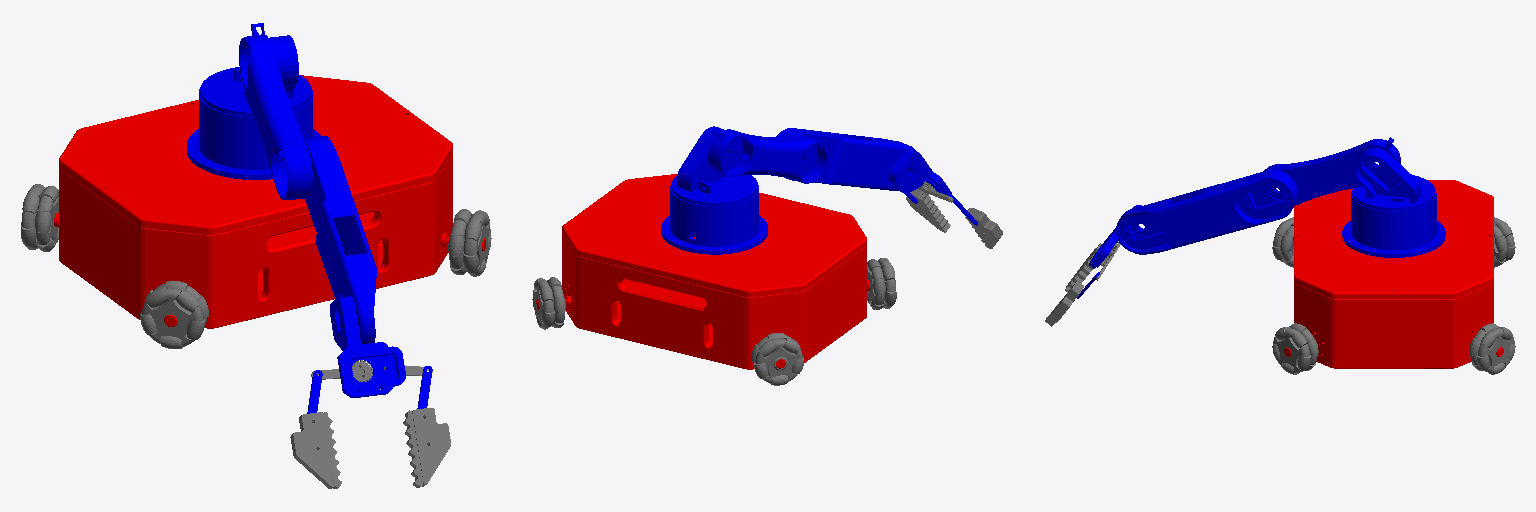
URDF robot description (robotic_arm_omnibase_platform3):
<?xml version="1.0" encoding="utf-8"?>
<!-- Gazebo Compatible URDF -->
<robot name="robotic_arm_omnibase_platform3">

  <!-- ================= LINKS (Unchanged) ================= -->
  <link name="base_link">
    <inertial> <origin xyz="-1.06e-08 5.04e-05 0.0452" rpy="0 0 0"/> <mass value="2.6937"/> <inertia ixx="0.01408" ixy="1.31e-05" ixz="-1.38e-08" iyy="0.02323" iyz="-1.31e-06" izz="0.03512"/> </inertial>
    <visual> <origin xyz="0 0 0" rpy="0 0 0"/> <geometry> <mesh filename="package://robotic_arm_omnibase_platform3/meshes/base_link.STL"/> </geometry> <material name="RedMat"> <color rgba="1 0 0 1"/> </material> </visual>
    <collision> <origin xyz="0 0 0" rpy="0 0 0"/> <geometry> <mesh filename="package://robotic_arm_omnibase_platform3/meshes/base_link.STL"/> </geometry> </collision>
  </link>
  <link name="l_w_1">
    <inertial> <origin xyz="-2.89e-09 -0.0125 -1.18e-09" rpy="0 0 0"/> <mass value="0.0504"/> <inertia ixx="1.07e-05" ixy="5.68e-14" ixz="2.99e-12" iyy="2.03e-05" iyz="-4.83e-14" izz="1.07e-05"/> </inertial>
    <visual> <origin xyz="0 0 0" rpy="0 0 0"/> <geometry> <mesh filename="package://robotic_arm_omnibase_platform3/meshes/l_w_1.STL"/> </geometry> <material name="GreyMat"> <color rgba="0.5 0.5 0.5 1"/> </material> </visual>
    <collision> <origin xyz="0 0 0" rpy="0 0 0"/> <geometry> <mesh filename="package://robotic_arm_omnibase_platform3/meshes/l_w_1.STL"/> </geometry> </collision>
  </link>
  <link name="l_w_2">
    <inertial> <origin xyz="-2.89e-09 -0.0124 1.18e-09" rpy="0 0 0"/> <mass value="0.0504"/> <inertia ixx="1.07e-05" ixy="-5.68e-14" ixz="-2.99e-12" iyy="2.03e-05" iyz="-4.83e-14" izz="1.07e-05"/> </inertial>
    <visual> <origin xyz="0 0 0" rpy="0 0 0"/> <geometry> <mesh filename="package://robotic_arm_omnibase_platform3/meshes/l_w_2.STL"/> </geometry> <material name="GreyMat"/> </visual>
    <collision> <origin xyz="0 0 0" rpy="0 0 0"/> <geometry> <mesh filename="package://robotic_arm_omnibase_platform3/meshes/l_w_2.STL"/> </geometry> </collision>
  </link>
  <link name="r_w_1">
    <inertial> <origin xyz="-2.91e-09 -0.0125 -1.14e-09" rpy="0 0 0"/> <mass value="0.0504"/> <inertia ixx="1.07e-05" ixy="5.59e-14" ixz="3.05e-12" iyy="2.03e-05" iyz="-4.97e-14" izz="1.07e-05"/> </inertial>
    <visual> <origin xyz="0 0 0" rpy="0 0 0"/> <geometry> <mesh filename="package://robotic_arm_omnibase_platform3/meshes/r_w_1.STL"/> </geometry> <material name="GreyMat"/> </visual>
    <collision> <origin xyz="0 0 0" rpy="0 0 0"/> <geometry> <mesh filename="package://robotic_arm_omnibase_platform3/meshes/r_w_1.STL"/> </geometry> </collision>
  </link>
  <link name="r_w_2">
    <inertial> <origin xyz="-2.89e-09 -0.0125 -1.18e-09" rpy="0 0 0"/> <mass value="0.0504"/> <inertia ixx="1.07e-05" ixy="5.68e-14" ixz="2.99e-12" iyy="2.03e-05" iyz="-4.83e-14" izz="1.07e-05"/> </inertial>
    <visual> <origin xyz="0 0 0" rpy="0 0 0"/> <geometry> <mesh filename="package://robotic_arm_omnibase_platform3/meshes/r_w_2.STL"/> </geometry> <material name="GreyMat"/> </visual>
    <collision> <origin xyz="0 0 0" rpy="0 0 0"/> <geometry> <mesh filename="package://robotic_arm_omnibase_platform3/meshes/r_w_2.STL"/> </geometry> </collision>
  </link>
  <link name="b_l_r_a"><inertial><origin xyz="4.44e-07 -0.0009 -0.008" rpy="0 0 0"/><mass value="0.116"/><inertia ixx="0.00016" ixy="4.15e-10" ixz="9.79e-10" iyy="0.00015" iyz="-4.25e-06" izz="0.00025"/></inertial><visual><origin xyz="0 0 0" rpy="0 0 0"/><geometry><mesh filename="package://robotic_arm_omnibase_platform3/meshes/b_l_r_a.STL"/></geometry><material name="BlueMat"><color rgba="0 0 1 1"/></material></visual><collision><origin xyz="0 0 0" rpy="0 0 0"/><geometry><mesh filename="package://robotic_arm_omnibase_platform3/meshes/b_l_r_a.STL"/></geometry></collision></link>
  <link name="b_c"><inertial><origin xyz="-0.0054 0.0034 0.0125" rpy="0 0 0"/><mass value="0.0604"/><inertia ixx="4.99e-05" ixy="-1.86e-06" ixz="3.53e-06" iyy="3.86e-05" iyz="-6.94e-06" izz="5.40e-05"/></inertial><visual><origin xyz="0 0 0" rpy="0 0 0"/><geometry><mesh filename="package://robotic_arm_omnibase_platform3/meshes/b_c.STL"/></geometry><material name="BlueMat"/></visual><collision><origin xyz="0 0 0" rpy="0 0 0"/><geometry><mesh filename="package://robotic_arm_omnibase_platform3/meshes/b_c.STL"/></geometry></collision></link>
  <link name="l_1"><inertial><origin xyz="-5.65e-05 -0.0061 0.0648" rpy="0 0 0"/><mass value="0.1287"/><inertia ixx="0.00025" ixy="3.34e-08" ixz="-6.48e-07" iyy="0.00027" iyz="9.22e-07" izz="2.88e-05"/></inertial><visual><origin xyz="0 0 0" rpy="0 0 0"/><geometry><mesh filename="package://robotic_arm_omnibase_platform3/meshes/l_1.STL"/></geometry><material name="BlueMat"/></visual><collision><origin xyz="0 0 0" rpy="0 0 0"/><geometry><mesh filename="package://robotic_arm_omnibase_platform3/meshes/l_1.STL"/></geometry></collision></link>
  <link name="l_2"><inertial><origin xyz="0.0126 0.0006 0.0824" rpy="0 0 0"/><mass value="0.177"/><inertia ixx="0.00033" ixy="-1.75e-08" ixz="-2.35e-06" iyy="0.00029" iyz="-1.62e-06" izz="6.08e-05"/></inertial><visual><origin xyz="0 0 0" rpy="0 0 0"/><geometry><mesh filename="package://robotic_arm_omnibase_platform3/meshes/l_2.STL"/></geometry><material name="BlueMat"/></visual><collision><origin xyz="0 0 0" rpy="0 0 0"/><geometry><mesh filename="package://robotic_arm_omnibase_platform3/meshes/l_2.STL"/></geometry></collision></link>
  <link name="l_3"><inertial><origin xyz="-0.0028 -0.0072 0.0213" rpy="0 0 0"/><mass value="0.0338"/><inertia ixx="2.83e-05" ixy="-1.40e-06" ixz="4.00e-06" iyy="2.75e-05" iyz="6.57e-06" izz="1.06e-05"/></inertial><visual><origin xyz="0 0 0" rpy="0 0 0"/><geometry><mesh filename="package://robotic_arm_omnibase_platform3/meshes/l_3.STL"/></geometry><material name="BlueMat"/></visual><collision><origin xyz="0 0 0" rpy="0 0 0"/><geometry><mesh filename="package://robotic_arm_omnibase_platform3/meshes/l_3.STL"/></geometry></collision></link>
  <link name="g_1"><inertial><origin xyz="0.0048 0.0004 -0.008" rpy="0 0 0"/><mass value="0.0023"/><inertia ixx="5.01e-07" ixy="-1.96e-09" ixz="3.52e-08" iyy="4.70e-07" iyz="2.32e-08" izz="4.96e-08"/></inertial><visual><origin xyz="0 0 0" rpy="0 0 0"/><geometry><mesh filename="package://robotic_arm_omnibase_platform3/meshes/g_1.STL"/></geometry><material name="GreyMat"/></visual><collision><origin xyz="0 0 0" rpy="0 0 0"/><geometry><mesh filename="package://robotic_arm_omnibase_platform3/meshes/g_1.STL"/></geometry></collision></link>
  <link name="l_4_1"><inertial><origin xyz="-0.014 -0.016 -0.005" rpy="0 0 0"/><mass value="0.0012"/><inertia ixx="1.82e-07" ixy="-1.12e-07" ixz="-3.37e-08" iyy="1.00e-07" iyz="-4.81e-08" izz="2.40e-07"/></inertial><visual><origin xyz="0 0 0" rpy="0 0 0"/><geometry><mesh filename="package://robotic_arm_omnibase_platform3/meshes/l_4_1.STL"/></geometry><material name="BlueMat"/></visual><collision><origin xyz="0 0 0" rpy="0 0 0"/><geometry><mesh filename="package://robotic_arm_omnibase_platform3/meshes/l_4_1.STL"/></geometry></collision></link>
  <link name="gr_1"><inertial><origin xyz="-0.006 -0.007 -0.021" rpy="0 0 0"/><mass value="0.0193"/><inertia ixx="6.33e-06" ixy="-8.47e-22" ixz="-1.89e-21" iyy="4.96e-06" iyz="-1.47e-06" izz="1.74e-06"/></inertial><visual><origin xyz="0 0 0" rpy="0 0 0"/><geometry><mesh filename="package://robotic_arm_omnibase_platform3/meshes/gr_1.STL"/></geometry><material name="GreyMat"/></visual><collision><origin xyz="0 0 0" rpy="0 0 0"/><geometry><mesh filename="package://robotic_arm_omnibase_platform3/meshes/gr_1.STL"/></geometry></collision></link>
  <link name="g_2"><inertial><origin xyz="-0.0005 -0.0012 0.0085" rpy="0 0 0"/><mass value="0.0024"/><inertia ixx="5.00e-07" ixy="-1.69e-08" ixz="7.98e-09" iyy="4.76e-07" iyz="7.45e-08" izz="6.05e-08"/></inertial><visual><origin xyz="0 0 0" rpy="0 0 0"/><geometry><mesh filename="package://robotic_arm_omnibase_platform3/meshes/g_2.STL"/></geometry><material name="GreyMat"/></visual><collision><origin xyz="0 0 0" rpy="0 0 0"/><geometry><mesh filename="package://robotic_arm_omnibase_platform3/meshes/g_2.STL"/></geometry></collision></link>
  <link name="l_4_2"><inertial><origin xyz="-0.015 -0.016 -0.003" rpy="0 0 0"/><mass value="0.0012"/><inertia ixx="1.78e-07" ixy="-1.16e-07" ixz="-2.07e-08" iyy="9.53e-08" iyz="-2.93e-08" izz="2.49e-07"/></inertial><visual><origin xyz="0 0 0" rpy="0 0 0"/><geometry><mesh filename="package://robotic_arm_omnibase_platform3/meshes/l_4_2.STL"/></geometry><material name="BlueMat"/></visual><collision><origin xyz="0 0 0" rpy="0 0 0"/><geometry><mesh filename="package://robotic_arm_omnibase_platform3/meshes/l_4_2.STL"/></geometry></collision></link>
  <link name="gr_2"><inertial><origin xyz="-0.006 -0.006 -0.021" rpy="0 0 0"/><mass value="0.0193"/><inertia ixx="6.33e-06" ixy="7.41e-22" ixz="1.65e-21" iyy="5.30e-06" iyz="-9.85e-07" izz="1.40e-06"/></inertial><visual><origin xyz="0 0 0" rpy="0 0 0"/><geometry><mesh filename="package://robotic_arm_omnibase_platform3/meshes/gr_2.STL"/></geometry><material name="GreyMat"/></visual><collision><origin xyz="0 0 0" rpy="0 0 0"/><geometry><mesh filename="package://robotic_arm_omnibase_platform3/meshes/gr_2.STL"/></geometry></collision></link>

  <!-- ================= JOINTS (Mimic Removed) ================= -->
  <joint name="left_wheel_1" type="continuous"> <origin xyz="0.15707 0.12401 0.021466" rpy="0 0 -0.7854"/> <parent link="base_link"/> <child link="l_w_1"/> <axis xyz="0 1 0"/> <limit effort="0.15" velocity="62.8"/> </joint>
  <joint name="left_wheel_2" type="continuous"> <origin xyz="-0.15707 0.12401 0.021466" rpy="0 0 0.7854"/> <parent link="base_link"/> <child link="l_w_2"/> <axis xyz="0 1 0"/> <limit effort="0.15" velocity="62.8"/> </joint>
  <joint name="right_wheel_1" type="continuous"> <origin xyz="0.15707 -0.12401 0.021466" rpy="0 0 -2.3562"/> <parent link="base_link"/> <child link="r_w_1"/> <axis xyz="0 1 0"/> <limit effort="0.15" velocity="62.8"/> </joint>
  <joint name="right_wheel_2" type="continuous"> <origin xyz="-0.15707 -0.12401 0.021466" rpy="0 0 2.3562"/> <parent link="base_link"/> <child link="r_w_2"/> <axis xyz="0 1 0"/> <limit effort="0.15" velocity="62.8"/> </joint>
  <joint name="base_link_robotic_arm" type="fixed"> <origin xyz="0 -0.00025 0.1280" rpy="0 0 3.1415"/> <parent link="base_link"/> <child link="b_l_r_a"/> <axis xyz="0 0 0"/> </joint>
  <joint name="base_cap" type="revolute"> <origin xyz="0 -0.00025 0.0269" rpy="0 0 0"/> <parent link="b_l_r_a"/> <child link="b_c"/> <axis xyz="0 0 1"/> <limit lower="0" upper="6.28" effort="1.96" velocity="7"/> </joint>
  <joint name="link_1" type="revolute"> <origin xyz="0.0039 0.0196 0.0353" rpy="-3.1416 1.1933 -1.8204"/> <parent link="b_c"/> <child link="l_1"/> <axis xyz="0 1 0"/> <limit lower="-3.14" upper="0" effort="1.96" velocity="7"/> </joint>
  <joint name="link_2" type="revolute"> <origin xyz="0 0 0.129" rpy="0.0252 0 1.5708"/> <parent link="l_1"/> <child link="l_2"/> <axis xyz="1 0 0"/> <limit lower="-0.5" upper="2.45" effort="1.96" velocity="7"/> </joint>
  <joint name="link_3" type="revolute"> <origin xyz="-0.0055 0.0013 0.179" rpy="-0.5582 0 3.1416"/> <parent link="l_2"/> <child link="l_3"/> <axis xyz="-1 0 0"/> <limit lower="-1.5" upper="1" effort="1.96" velocity="7"/> </joint>
  <joint name="driver_gear" type="revolute"> <origin xyz="-0.0038 -0.013 0.049" rpy="-1.5708 0 1.5708"/> <parent link="l_3"/> <child link="g_1"/> <axis xyz="1 0 0"/> <limit lower="-0.78" upper="0.3" effort="1.96" velocity="7"/> </joint>
  <joint name="link_4_1" type="fixed"> <origin xyz="0.0064 0.0022 -0.039" rpy="0.0457 -0.031 0.6097"/> <parent link="g_1"/> <child link="l_4_1"/> <axis xyz="0 0 0"/> </joint>
  <joint name="gripper_1" type="revolute"> <origin xyz="-0.027 -0.034 -0.011" rpy="-1.3235 0 -0.6104"/> <parent link="l_4_1"/> <child link="gr_1"/> <axis xyz="1 0 0"/> <limit lower="0" upper="1.5" effort="1.96" velocity="7"/> </joint>
  <!-- Removed mimic tag from driven_gear -->
  <joint name="driven_gear" type="revolute"> <origin xyz="-0.024 -0.0085 0.049" rpy="-1.5708 0.6097 1.5708"/> <parent link="l_3"/> <child link="g_2"/> <axis xyz="0.819 -0.572 0"/> <limit lower="-0.78" upper="0.3" effort="1.96" velocity="7"/> </joint>
  <joint name="link_4_2" type="fixed"> <origin xyz="-0.001 -0.006 0.039" rpy="0.127 -0.089 0"/> <parent link="g_2"/> <child link="l_4_2"/> <axis xyz="0 0 0"/> </joint>
  <joint name="gripper_2" type="revolute"> <origin xyz="-0.028 -0.034 -0.006" rpy="-1.423 0 -0.615"/> <parent link="l_4_2"/> <child link="gr_2"/> <axis xyz="1 0 0"/> <limit lower="-1.5" upper="0" effort="1.96" velocity="7"/> </joint>

  <!-- ================= TRANSMISSIONS (Unchanged Wheel + Added Arm) ================= -->
  <transmission name="tran1"> <type>transmission_interface/SimpleTransmission</type> <joint name="left_wheel_1"> <hardwareInterface>hardware_interface/VelocityJointInterface</hardwareInterface> </joint> <actuator name="motor1"> <hardwareInterface>hardware_interface/VelocityJointInterface</hardwareInterface> <mechanicalReduction>1</mechanicalReduction> </actuator> </transmission>
  <transmission name="tran2"> <type>transmission_interface/SimpleTransmission</type> <joint name="left_wheel_2"> <hardwareInterface>hardware_interface/VelocityJointInterface</hardwareInterface> </joint> <actuator name="motor2"> <hardwareInterface>hardware_interface/VelocityJointInterface</hardwareInterface> <mechanicalReduction>1</mechanicalReduction> </actuator> </transmission>
  <transmission name="tran3"> <type>transmission_interface/SimpleTransmission</type> <joint name="right_wheel_1"> <hardwareInterface>hardware_interface/VelocityJointInterface</hardwareInterface> </joint> <actuator name="motor3"> <hardwareInterface>hardware_interface/VelocityJointInterface</hardwareInterface> <mechanicalReduction>1</mechanicalReduction> </actuator> </transmission>
  <transmission name="tran4"> <type>transmission_interface/SimpleTransmission</type> <joint name="right_wheel_2"> <hardwareInterface>hardware_interface/VelocityJointInterface</hardwareInterface> </joint> <actuator name="motor4"> <hardwareInterface>hardware_interface/VelocityJointInterface</hardwareInterface> <mechanicalReduction>1</mechanicalReduction> </actuator> </transmission>
  <transmission name="tran_base_cap"> <type>transmission_interface/SimpleTransmission</type> <joint name="base_cap"> <hardwareInterface>hardware_interface/PositionJointInterface</hardwareInterface> </joint> <actuator name="motor_base_cap"> <hardwareInterface>hardware_interface/PositionJointInterface</hardwareInterface> <mechanicalReduction>1</mechanicalReduction> </actuator> </transmission>
  <transmission name="tran_link_1"> <type>transmission_interface/SimpleTransmission</type> <joint name="link_1"> <hardwareInterface>hardware_interface/PositionJointInterface</hardwareInterface> </joint> <actuator name="motor_link_1"> <hardwareInterface>hardware_interface/PositionJointInterface</hardwareInterface> <mechanicalReduction>1</mechanicalReduction> </actuator> </transmission>
  <transmission name="tran_link_2"> <type>transmission_interface/SimpleTransmission</type> <joint name="link_2"> <hardwareInterface>hardware_interface/PositionJointInterface</hardwareInterface> </joint> <actuator name="motor_link_2"> <hardwareInterface>hardware_interface/PositionJointInterface</hardwareInterface> <mechanicalReduction>1</mechanicalReduction> </actuator> </transmission>
  <transmission name="tran_link_3"> <type>transmission_interface/SimpleTransmission</type> <joint name="link_3"> <hardwareInterface>hardware_interface/PositionJointInterface</hardwareInterface> </joint> <actuator name="motor_link_3"> <hardwareInterface>hardware_interface/PositionJointInterface</hardwareInterface> <mechanicalReduction>1</mechanicalReduction> </actuator> </transmission>
  <transmission name="tran_driver_gear"> <type>transmission_interface/SimpleTransmission</type> <joint name="driver_gear"> <hardwareInterface>hardware_interface/PositionJointInterface</hardwareInterface> </joint> <actuator name="motor_driver_gear"> <hardwareInterface>hardware_interface/PositionJointInterface</hardwareInterface> <mechanicalReduction>1</mechanicalReduction> </actuator> </transmission>
  <transmission name="tran_gripper_1"> <type>transmission_interface/SimpleTransmission</type> <joint name="gripper_1"> <hardwareInterface>hardware_interface/PositionJointInterface</hardwareInterface> </joint> <actuator name="motor_gripper_1"> <hardwareInterface>hardware_interface/PositionJointInterface</hardwareInterface> <mechanicalReduction>1</mechanicalReduction> </actuator> </transmission>
  <transmission name="tran_gripper_2"> <type>transmission_interface/SimpleTransmission</type> <joint name="gripper_2"> <hardwareInterface>hardware_interface/PositionJointInterface</hardwareInterface> </joint> <actuator name="motor_gripper_2"> <hardwareInterface>hardware_interface/PositionJointInterface</hardwareInterface> <mechanicalReduction>1</mechanicalReduction> </actuator> </transmission>
  
  <!-- ================= GAZEBO PLUGINS (Unchanged + Added ros_control) ================= -->
  <gazebo>
    <plugin name="gazebo_ros_planar_move" filename="libgazebo_ros_planar_move.so">
      <commandTopic>cmd_vel</commandTopic>
      <odometryTopic>odom</odometryTopic>
      <odometryFrame>odom</odometryFrame>
      <odometryRate>20.0</odometryRate>
      <robotBaseFrame>base_link</robotBaseFrame>
      <publishTF>true</publishTF>
      <enable-xy>true</enable-xy>
      <enable-rotation>true</enable-rotation>
      <front_left_joint>left_wheel_1</front_left_joint>
      <front_right_joint>right_wheel_1</front_right_joint>
      <back_left_joint>left_wheel_2</back_left_joint>
      <back_right_joint>right_wheel_2</back_right_joint>
      <wheel_separation_x>0.314</wheel_separation_x>
      <wheel_separation_y>0.248</wheel_separation_y>
      <wheel_radius>0.05</wheel_radius>
      <x_p_gain>1.0</x_p_gain> <x_i_gain>0.1</x_i_gain> <x_d_gain>0.01</x_d_gain>
      <y_p_gain>1.0</y_p_gain> <y_i_gain>0.1</y_i_gain> <y_d_gain>0.01</y_d_gain>
      <rot_p_gain>1.0</rot_p_gain> <rot_i_gain>0.1</rot_i_gain> <rot_d_gain>0.01</rot_d_gain>
    </plugin>
  </gazebo>

  <gazebo>
    <plugin name="gazebo_ros_control" filename="libgazebo_ros_control.so">
      <robotNamespace>/sarm</robotNamespace>
    </plugin>
  </gazebo>

  <!-- ================= GAZEBO MATERIALS (Unchanged) ================= -->
  <gazebo reference="base_link"><material>Gazebo/Red</material></gazebo>
  <gazebo reference="l_w_1"><material>Gazebo/Grey</material></gazebo>
  <gazebo reference="l_w_2"><material>Gazebo/Grey</material></gazebo>
  <gazebo reference="r_w_1"><material>Gazebo/Grey</material></gazebo>
  <gazebo reference="r_w_2"><material>Gazebo/Grey</material></gazebo>
  <gazebo reference="b_l_r_a"><material>Gazebo/Blue</material></gazebo>
  <gazebo reference="b_c"><material>Gazebo/Blue</material></gazebo>
  <gazebo reference="l_1"><material>Gazebo/Blue</material></gazebo>
  <gazebo reference="l_2"><material>Gazebo/Blue</material></gazebo>
  <gazebo reference="l_3"><material>Gazebo/Blue</material></gazebo>
  <gazebo reference="g_1"><material>Gazebo/Grey</material></gazebo>
  <gazebo reference="l_4_1"><material>Gazebo/Blue</material></gazebo>
  <gazebo reference="gr_1"><material>Gazebo/Grey</material></gazebo>
  <gazebo reference="g_2"><material>Gazebo/Grey</material></gazebo>
  <gazebo reference="l_4_2"><material>Gazebo/Blue</material></gazebo>
  <gazebo reference="gr_2"><material>Gazebo/Grey</material></gazebo>

</robot>

--- What the picture shows (computed from the rendered views, not written in the file) ---
3 views of the same robot in one strip: view 1: azimuth 30°, elevation 25°; view 2: azimuth 150°, elevation 25°; view 3: azimuth 270°, elevation 25° (orthographic).
Robot: robotic_arm_omnibase_platform3 — 16 links, 15 joints (8 revolute, 4 continuous, 3 fixed); root link base_link; default pose: all joints at 0.
Visible links, largest first — view 1: base_link, l_2, l_1, b_l_r_a, l_3, r_w_2, b_c, gr_1, gr_2, r_w_1, l_w_2, g_1; view 2: base_link, b_l_r_a, l_1, l_2, b_c, l_w_2, l_3, l_w_1, r_w_2, gr_2, gr_1; view 3: base_link, l_2, b_l_r_a, b_c, l_1, r_w_1, l_w_1, r_w_2, l_w_2, l_3, gr_2.
Boxes of the visible links, x1,y1,x2,y2 form: base_link: (54,75,485,328); l_2: (304,136,376,343); l_1: (239,23,312,199); b_l_r_a: (187,89,320,179); l_3: (330,296,405,397); r_w_2: (140,281,208,348); b_c: (200,35,311,116); gr_1: (290,412,341,488); gr_2: (403,408,450,487); r_w_1: (448,209,491,276); l_w_2: (21,184,58,251); g_1: (311,360,372,381); base_link: (536,174,869,369); b_l_r_a: (661,183,767,254); l_1: (708,129,827,183); l_2: (776,128,915,190); b_c: (672,126,757,205); l_w_2: (751,333,803,385); l_3: (889,149,951,195); l_w_1: (532,277,565,329); r_w_2: (867,258,896,309); gr_2: (906,189,950,232); gr_1: (965,208,1002,248); base_link: (1284,180,1503,368); l_2: (1116,170,1298,254); b_l_r_a: (1342,190,1445,257); b_c: (1353,148,1434,210); l_1: (1264,137,1400,205); r_w_1: (1272,323,1318,374); l_w_1: (1469,323,1515,374); r_w_2: (1272,217,1293,267); l_w_2: (1494,217,1515,267); l_3: (1089,205,1148,268); gr_2: (1045,281,1083,326).
Size in the robot's own frame: 0.3505 by 0.551 by 0.2712 metres.
Meshes: 16 distinct files referenced, 16 mesh visuals loaded (16 binary STL).
